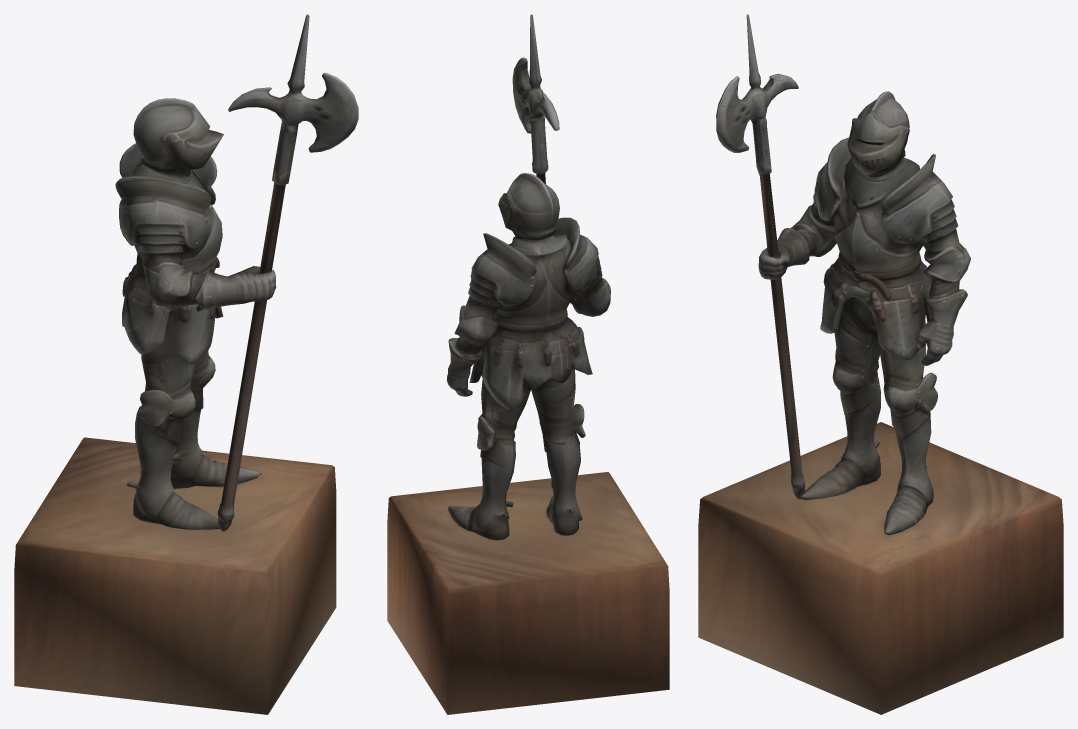
Rendered from SM_Env_BaskervilleSuitOfArmour.fbx.
The picture shows the model from 3 angles, left to right: view 1: azimuth 30°, elevation 25°; view 2: azimuth 150°, elevation 25°; view 3: azimuth 270°, elevation 25°; orthographic projection. The views are drawn at different scales.
Visible parts, largest first — view 1: SM_Env_BaskervilleSuitOfArmour; view 2: SM_Env_BaskervilleSuitOfArmour; view 3: SM_Env_BaskervilleSuitOfArmour.
Boxes of the visible parts, <box> form: SM_Env_BaskervilleSuitOfArmour: <box>14,14,358,714</box>; SM_Env_BaskervilleSuitOfArmour: <box>387,14,669,714</box>; SM_Env_BaskervilleSuitOfArmour: <box>698,14,1063,714</box>.
Size of the model in its own units: 30.34 by 30.34 by 60.
1 material, 1 textured.
